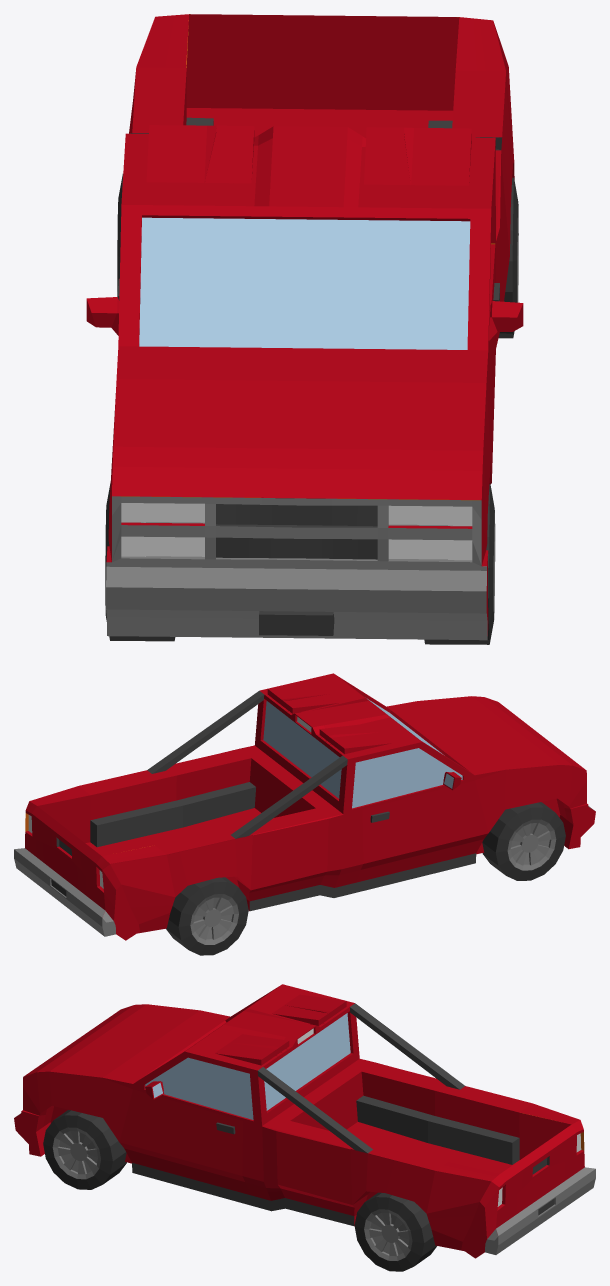
The model's file is PickUp2.fbx.
The picture shows the model from 3 angles, top to bottom: view 1: azimuth 30°, elevation 25°; view 2: azimuth 150°, elevation 25°; view 3: azimuth 270°, elevation 25°; orthographic projection. The views are drawn at different scales.
Parts seen in each view (by area): view 1: Cube, Wheel.003, Wheel.002; view 2: Cube, Wheel.001, Wheel; view 3: Cube, Wheel.003, Wheel.002.
Boxes of the visible parts, x1=… form: Cube: x1=86, y1=14, x2=523, y2=640; Wheel.003: x1=424, y1=484, x2=495, y2=644; Wheel.002: x1=498, y1=177, x2=518, y2=338; Cube: x1=14, y1=673, x2=595, y2=940; Wheel.001: x1=482, y1=802, x2=565, y2=880; Wheel: x1=166, y1=877, x2=248, y2=955; Cube: x1=14, y1=984, x2=595, y2=1258; Wheel.003: x1=43, y1=1110, x2=126, y2=1189; Wheel.002: x1=354, y1=1192, x2=436, y2=1271.
Bounding box in the file's own units: 394 × 161 × 501.
